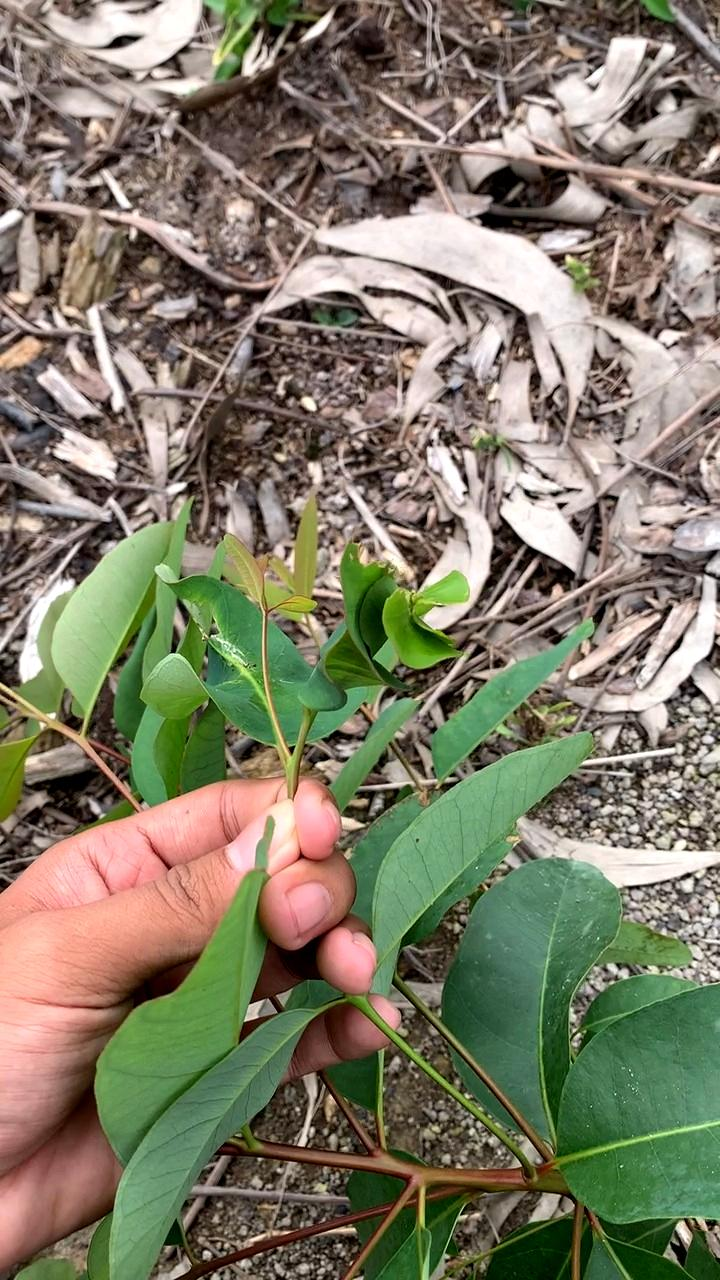Leaf Roller - Leaf: (318, 543, 471, 695)
